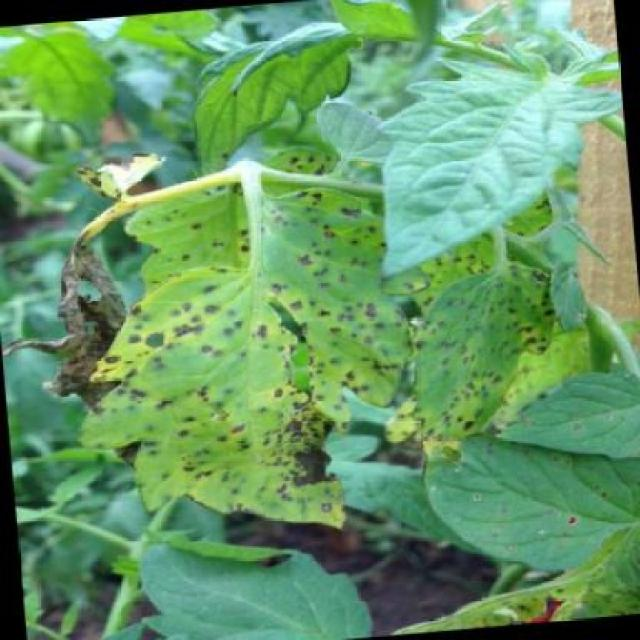Tomato leaf bacterial spot: (51, 155, 412, 556), (398, 262, 570, 443)
